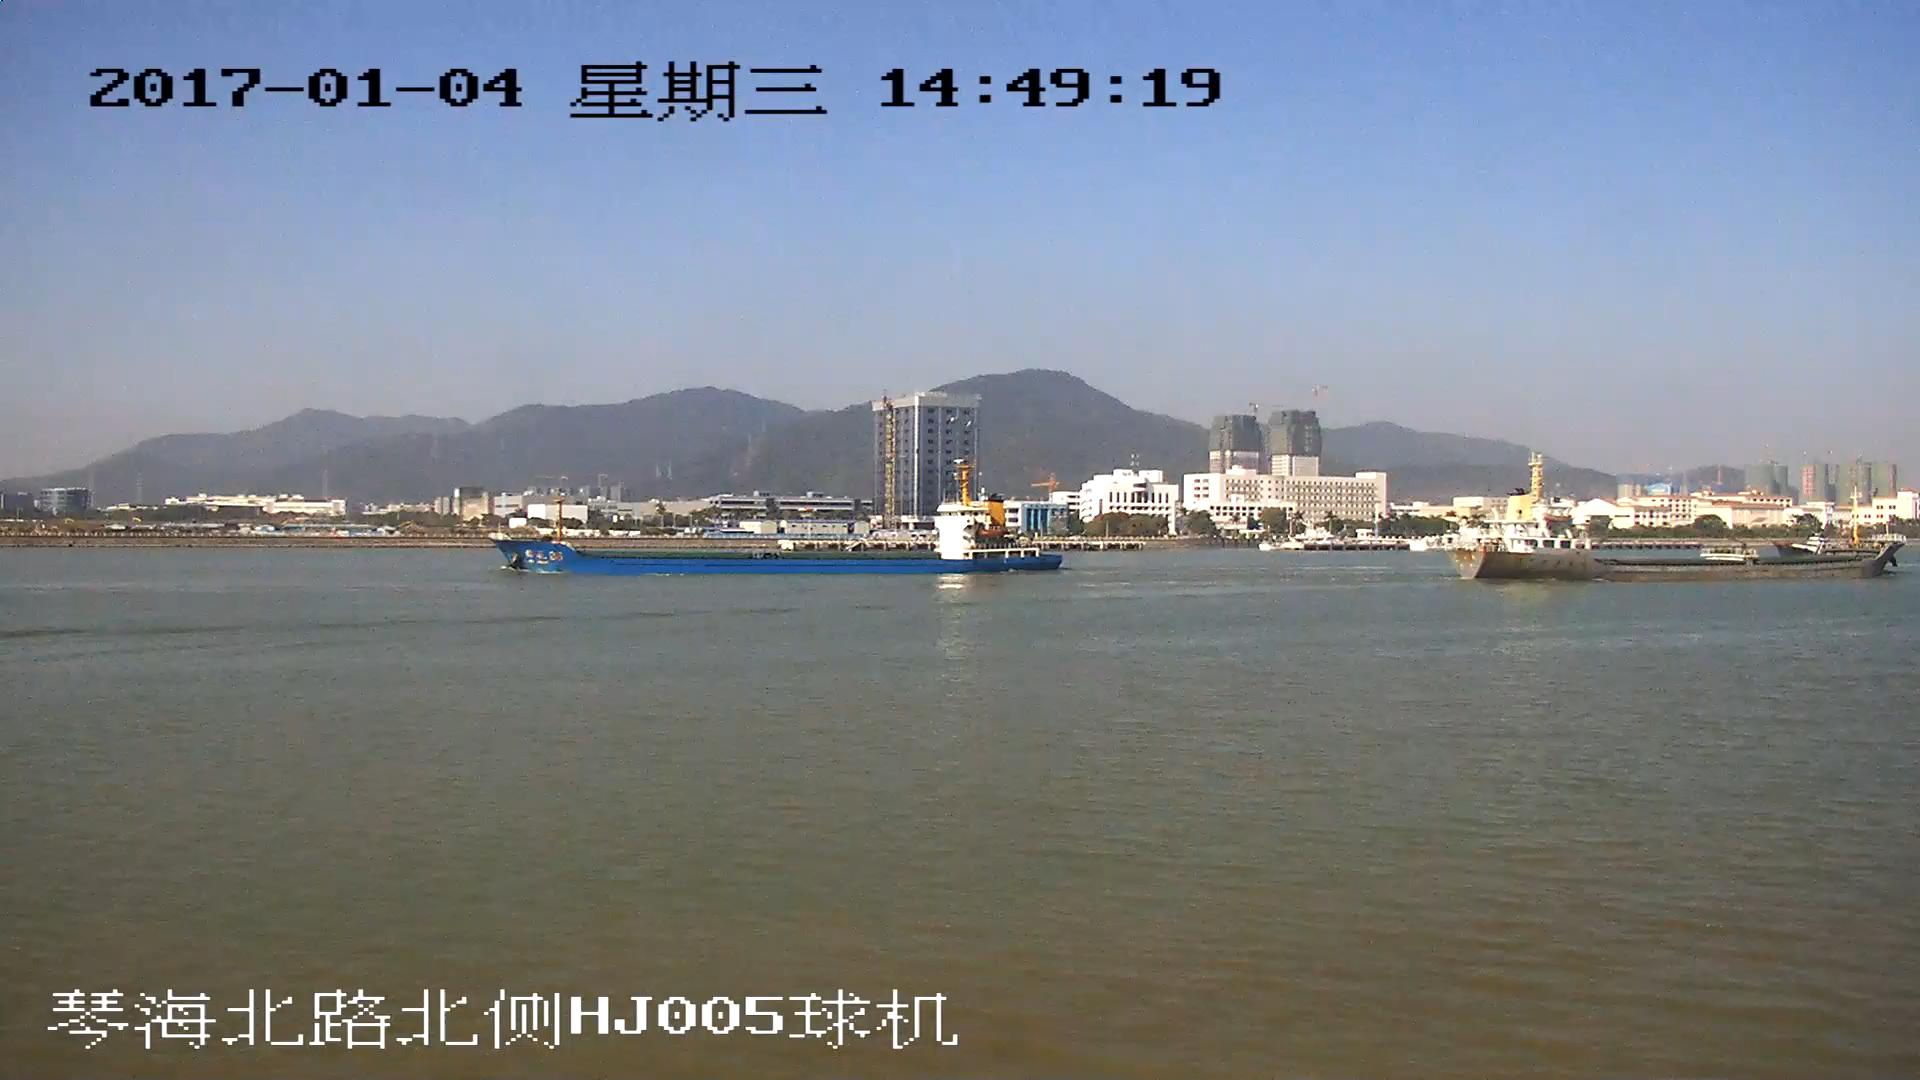general cargo ship: (499, 460, 1063, 576), (1451, 460, 1901, 581)
